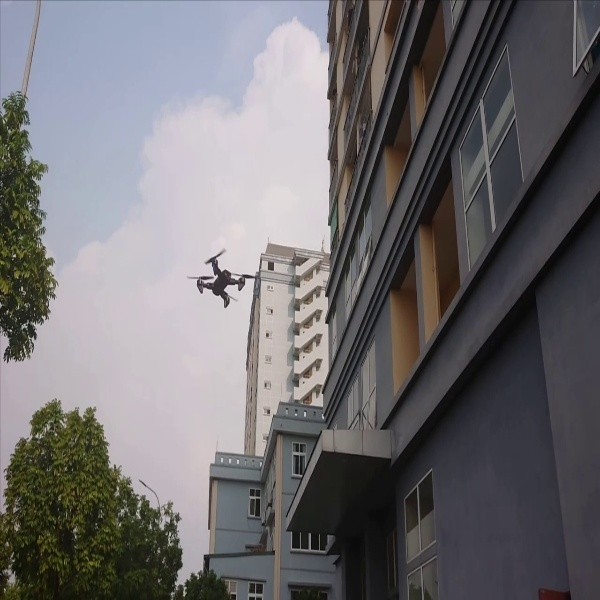drone: (192, 247, 256, 312)
